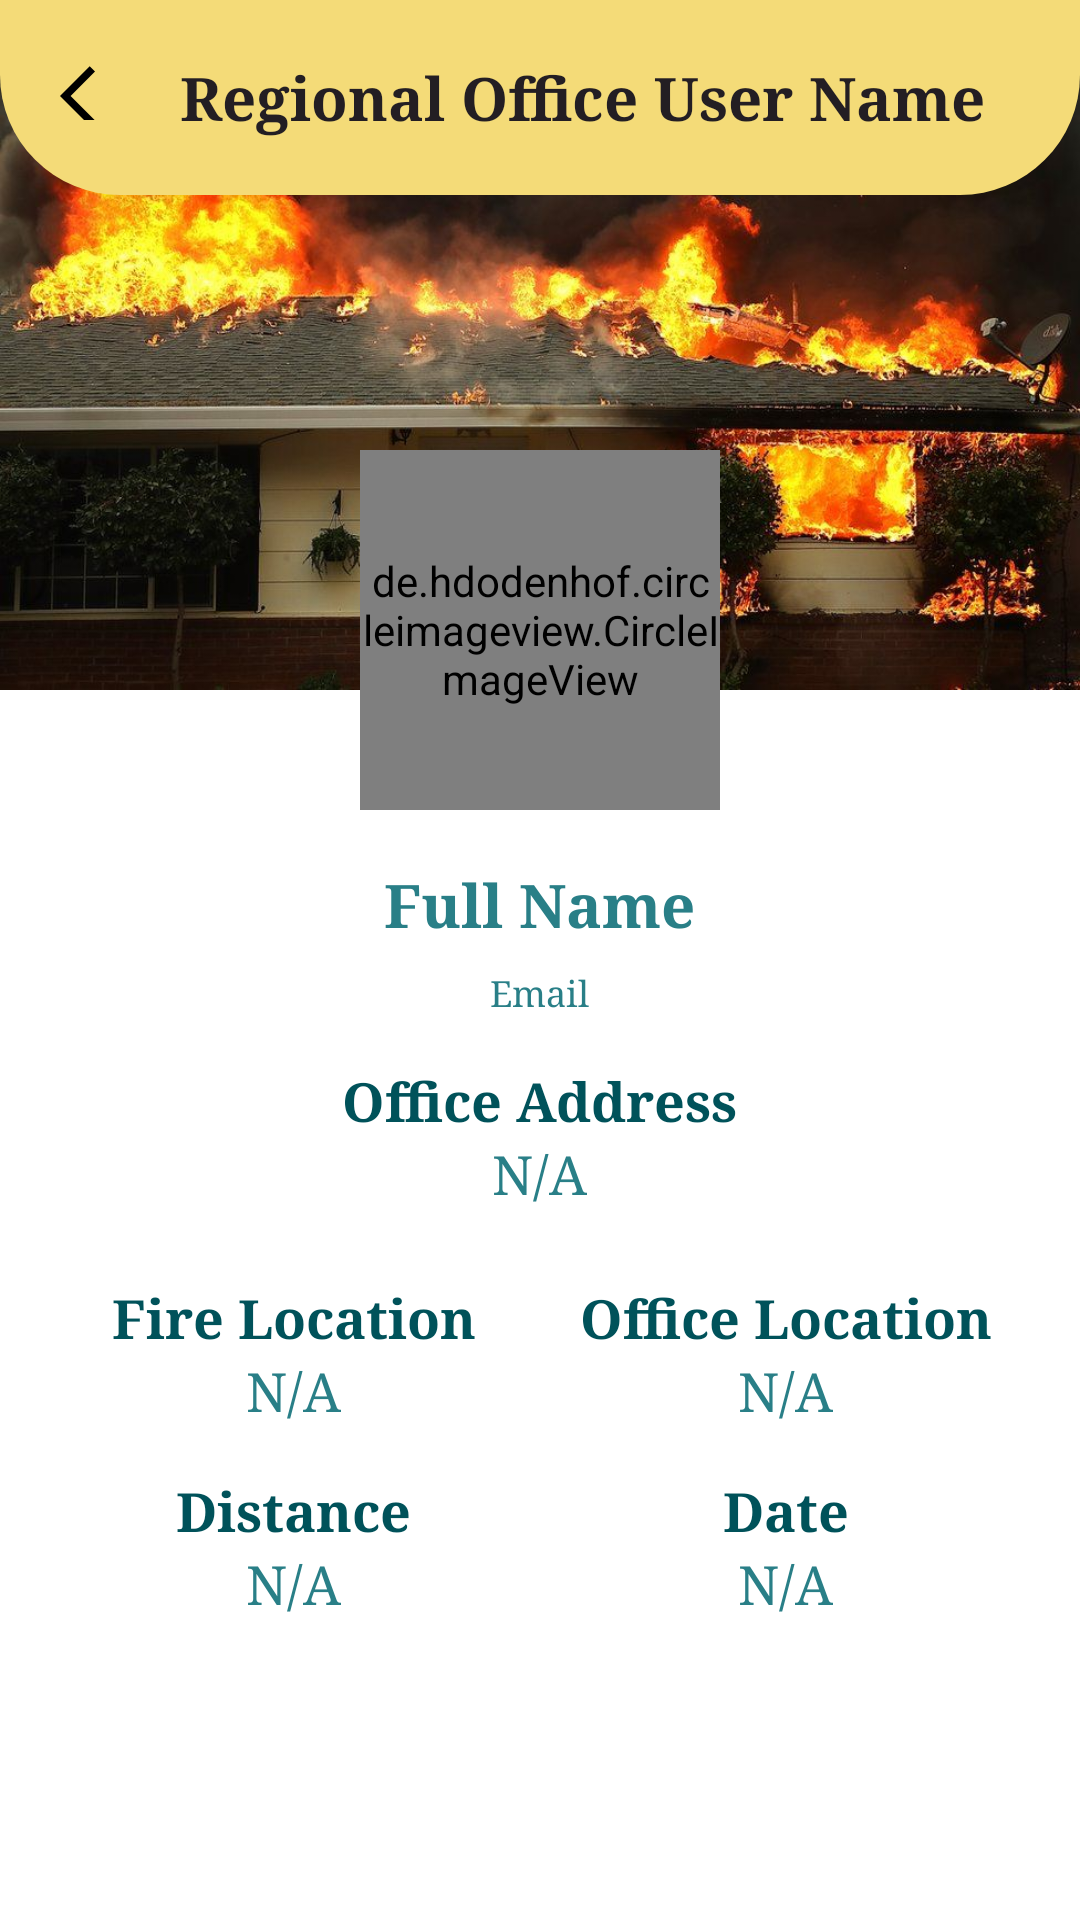

Named icons in this screenshot (1080px×1920px) and their centers, (x=x, y=y):
back: (x=77, y=93)
